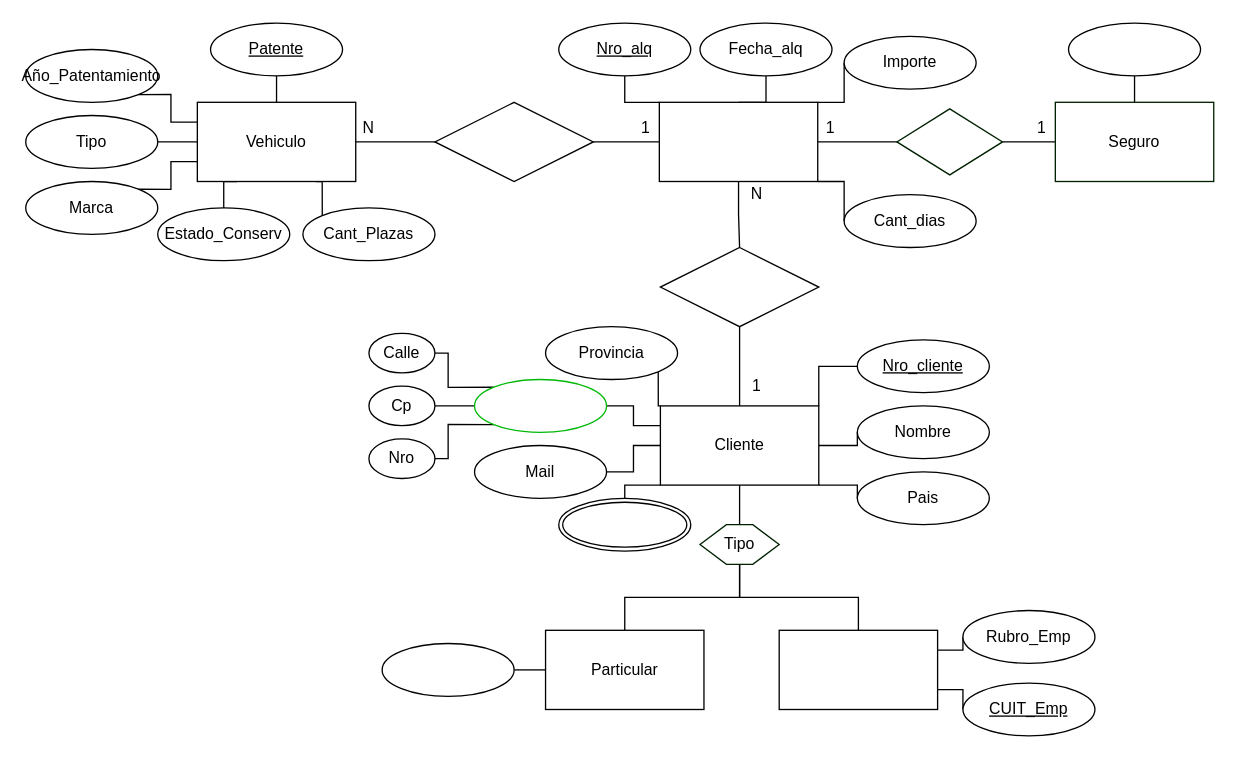
The diagram is 1237 pixels wide and 759 high, and some of its shapes have lost their labels. Here are the shapes that lost their labels. From the top down, the centre of each, then its label:
At point 1134,49: "Nro_Seguro".
At point 513,141: "Se encuentra en".
At point 738,141: "Alquiler".
At point 949,141: "Tiene".
At point 739,286: "Alquila a".
At point 540,405: "Domicilio".
At point 624,524: "Telefono".
At point 447,669: "Fecha_nac".
At point 858,669: "Empresa".
